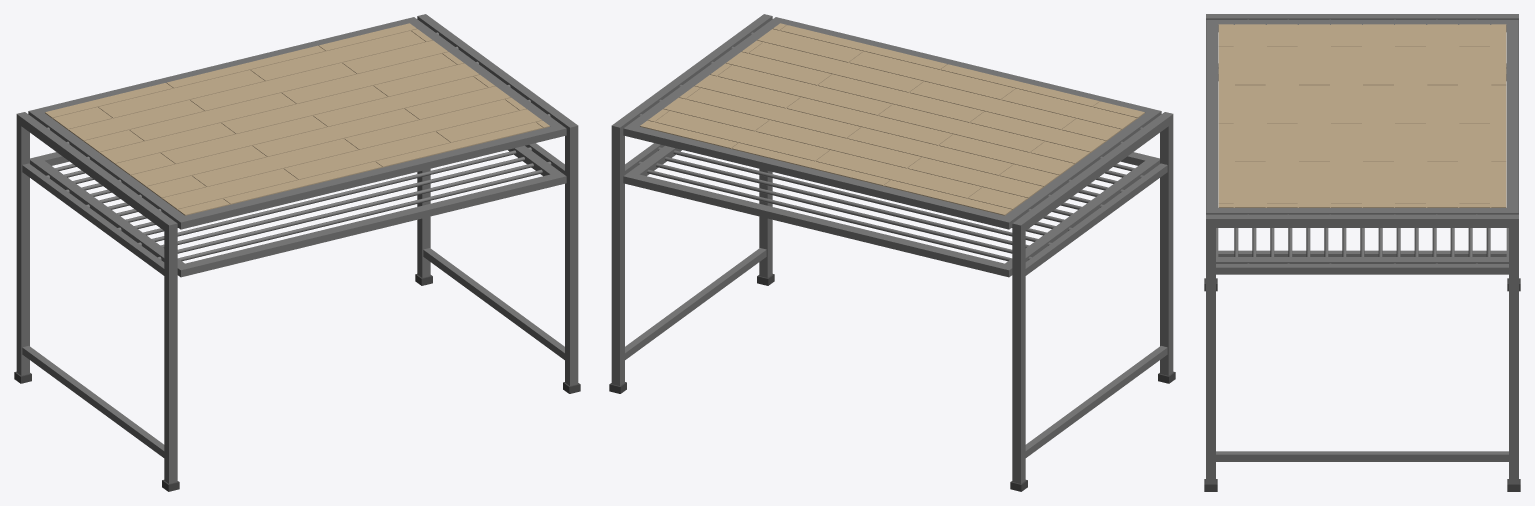
File: 597_ダイニングテーブル4人掛け.glb
3 renders of one model, left to right at view 1: azimuth 30°, elevation 25°; view 2: azimuth 150°, elevation 25°; view 3: azimuth 270°, elevation 25°, orthographic. The views are drawn at different scales.
Parts seen in each view (by area): view 1: Body; view 2: Body; view 3: Body.
Part boxes in pixels (x1,y1,x2,y2): Body: [14, 14, 580, 491]; Body: [609, 14, 1175, 491]; Body: [1204, 14, 1520, 491].
Bounding box in the file's own units: 1.22 × 0.752 × 0.789.
